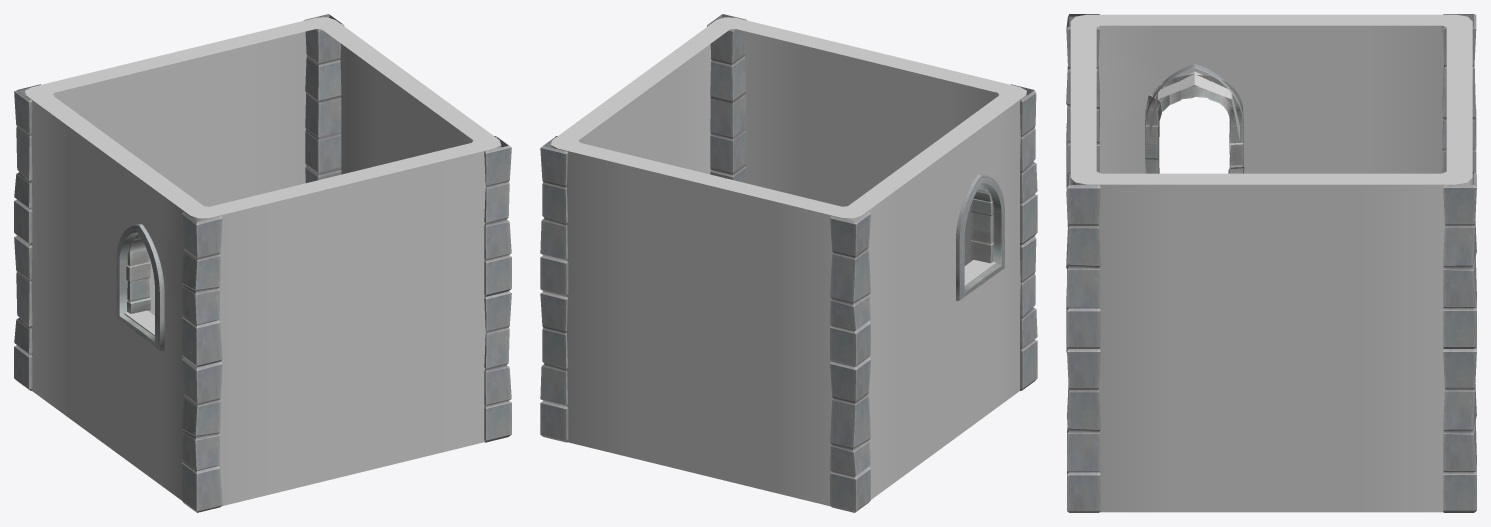
The model's file is SM_TowerE_Mid_02.fbx.
3 views of the same model, side by side, from view 1: azimuth 30°, elevation 25°; view 2: azimuth 150°, elevation 25°; view 3: azimuth 270°, elevation 25° (orthographic). The views are drawn at different scales.
Parts seen in each view (by area): view 1: SM_TowerE_Mid_02_LOD0; view 2: SM_TowerE_Mid_02_LOD0; view 3: SM_TowerE_Mid_02_LOD0.
Boxes of the visible parts, <box> form: SM_TowerE_Mid_02_LOD0: <box>14,14,511,512</box>; SM_TowerE_Mid_02_LOD0: <box>540,14,1037,512</box>; SM_TowerE_Mid_02_LOD0: <box>1066,14,1476,512</box>.
Size of what is drawn, in the model's own units: 10.29 by 9 by 10.22.
